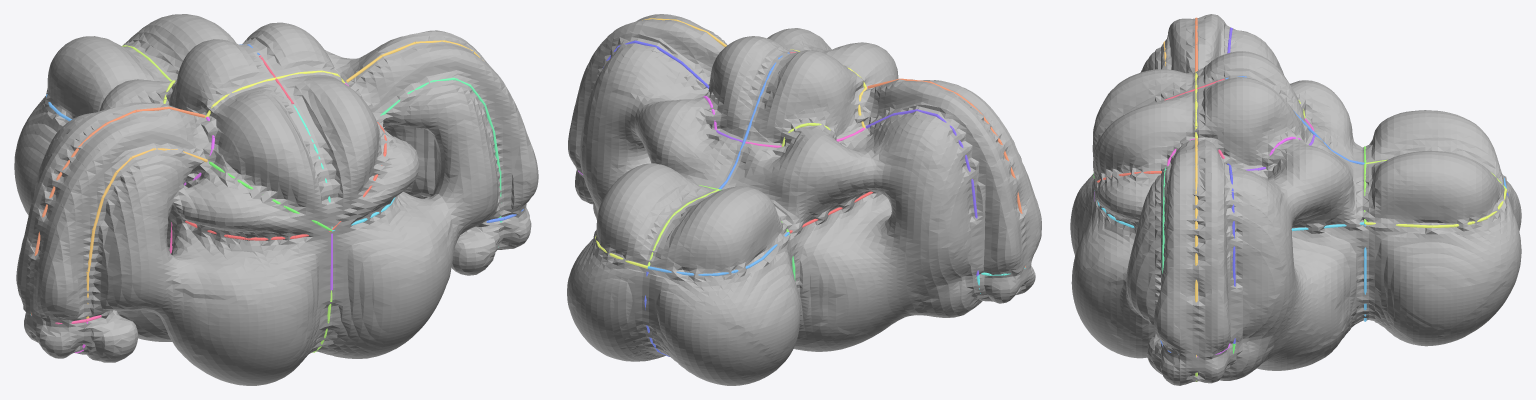
Rendered from scaffolds3d_dog.gltf.
3 renders of one model, left to right at view 1: azimuth 30°, elevation 25°; view 2: azimuth 150°, elevation 25°; view 3: azimuth 270°, elevation 25°, orthographic. The views are drawn at different scales.
Bounding box in the file's own units: 0.7315 × 0.4172 × 0.6384.
